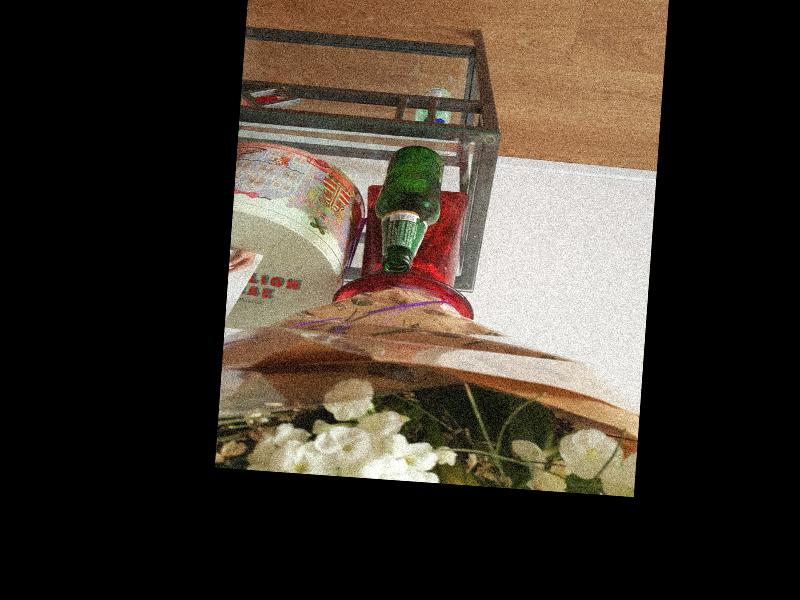Beer: (370, 141, 445, 275)
